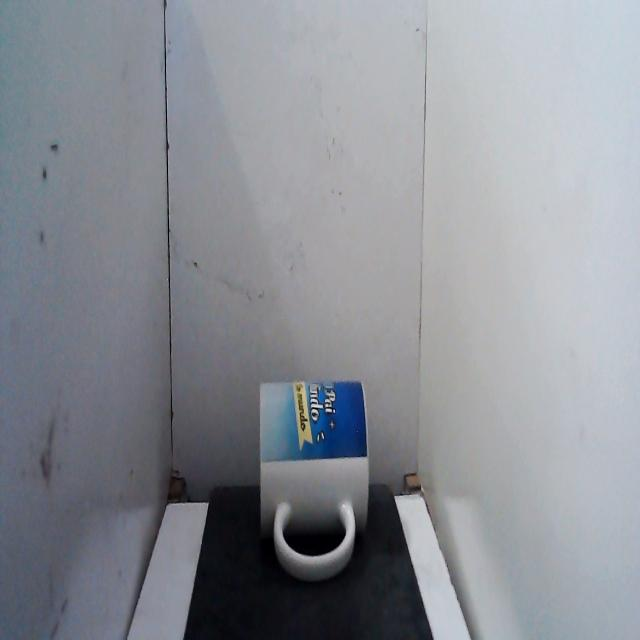vidro: (250, 366, 382, 596)
